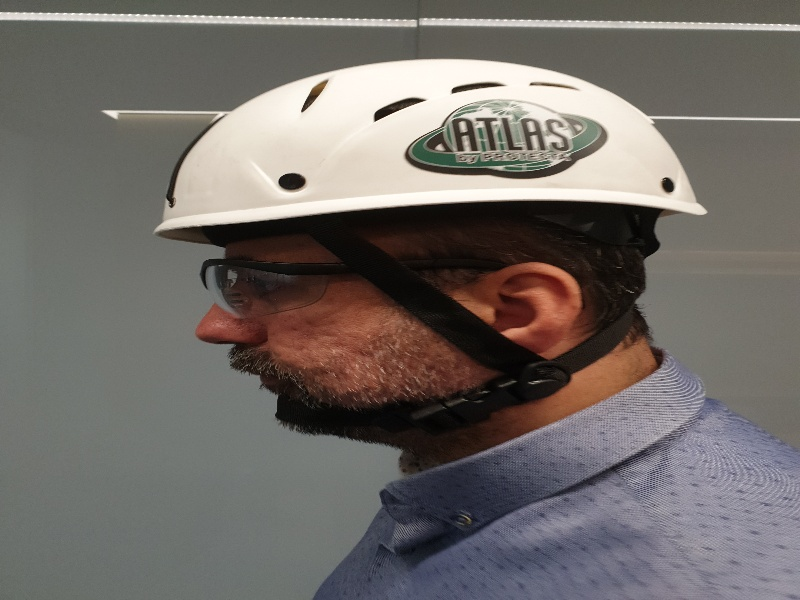Baret: (156, 55, 708, 226)
Gozluk: (197, 257, 498, 318)
